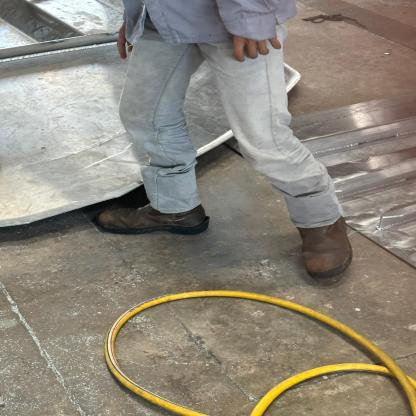bota: (92, 198, 212, 238), (292, 214, 359, 282)
